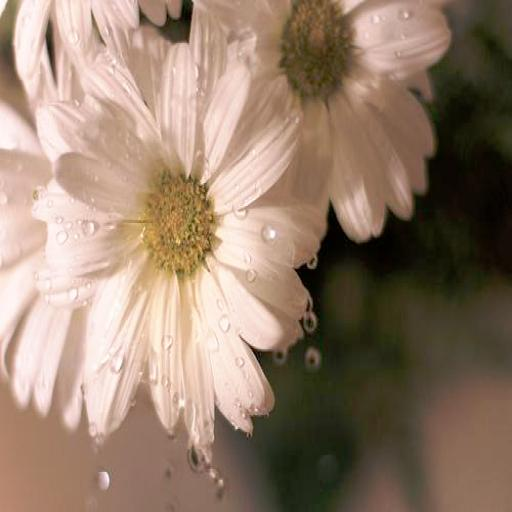daisy: (47, 52, 314, 435), (184, 1, 454, 243)
